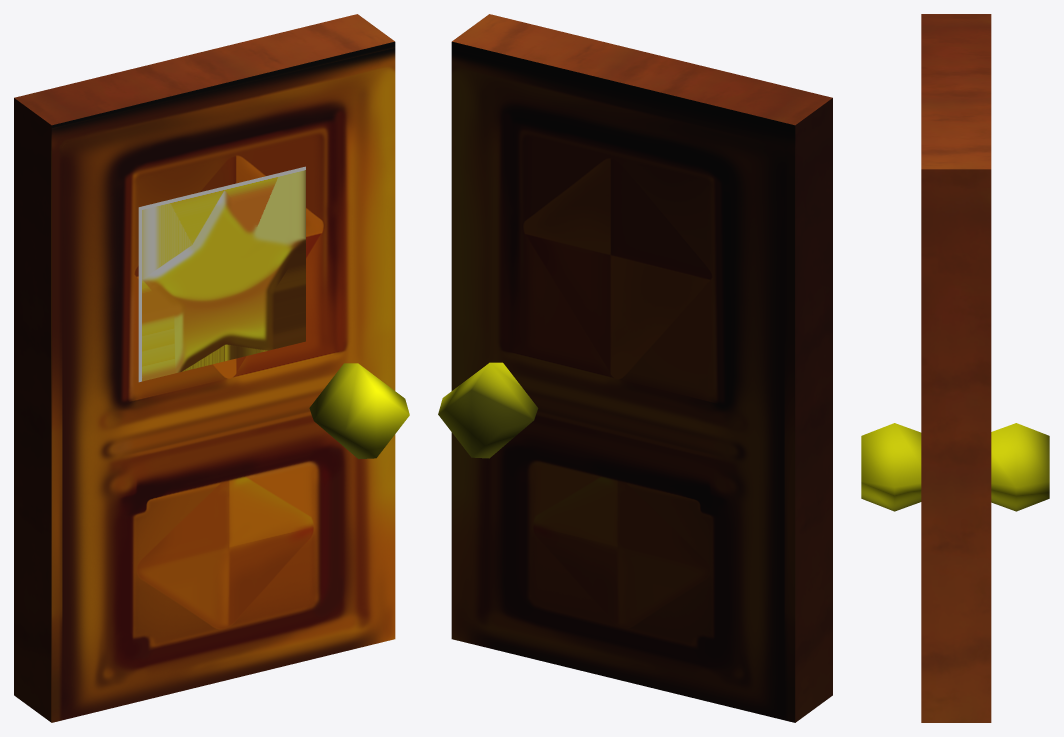
The model's file is castle_door.glb.
3 renders of one model, left to right at view 1: azimuth 30°, elevation 25°; view 2: azimuth 150°, elevation 25°; view 3: azimuth 270°, elevation 25°, orthographic. The views are drawn at different scales.
Visible parts, largest first — view 1: castle_door; view 2: castle_door; view 3: castle_door.
Part boxes in pixels (bbox=[...]): castle_door: bbox=[14, 14, 409, 722]; castle_door: bbox=[438, 14, 832, 722]; castle_door: bbox=[861, 14, 1049, 722].
Size of the model in its own units: 1.54 by 2.56 by 0.79.
4 materials, 3 textured.
